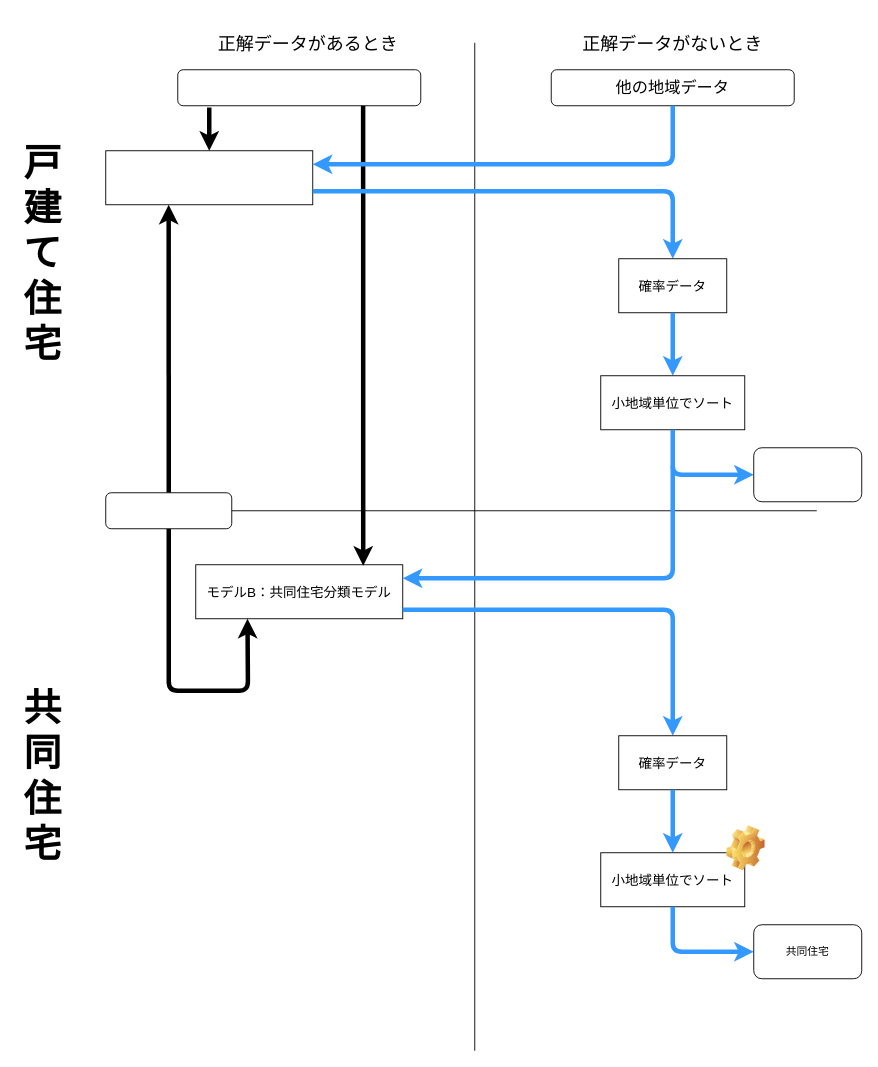
The diagram is 878 pixels wide and 1067 high, and some of its shapes have lost their labels. The shapes that lost their labels are listed below. From the top down, each one's centre as x and y in pixels, then its label:
At (299,87): "学習データ".
At (209,177): "モデルA：戸建て住宅分類モデル".
At (807,474): "戸建て住宅".
At (168,510): "テストデータ".
